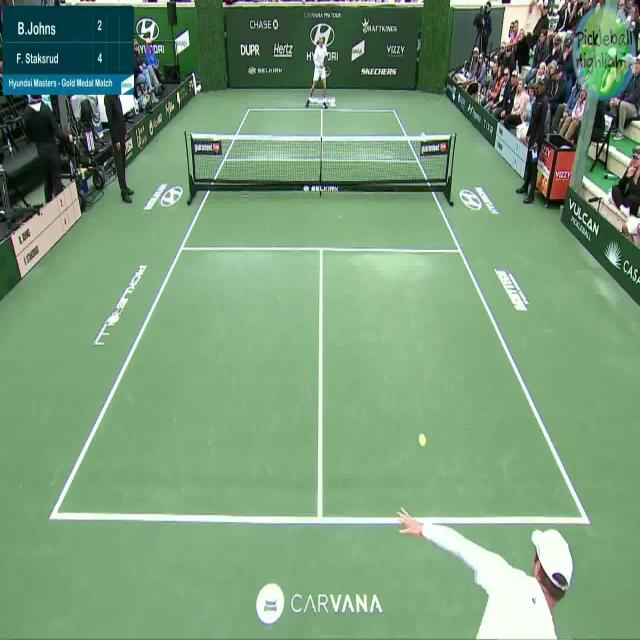Court: (51, 108, 588, 523)
